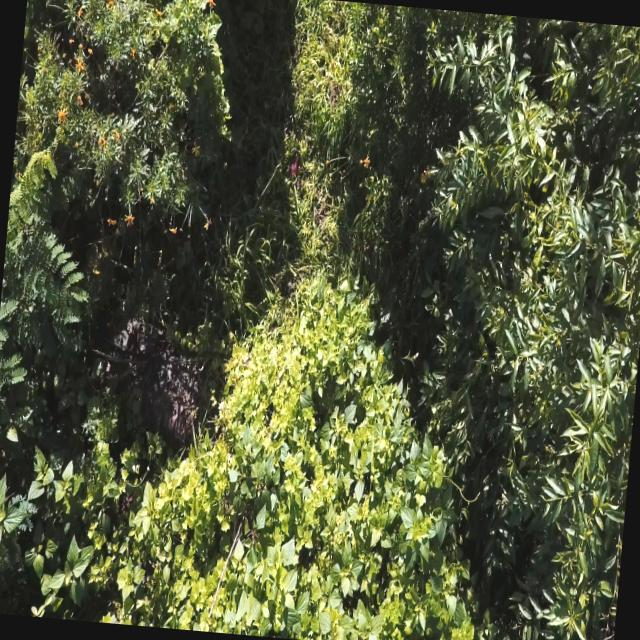Mysore-Thorn-Weed: (0, 130, 113, 359)
